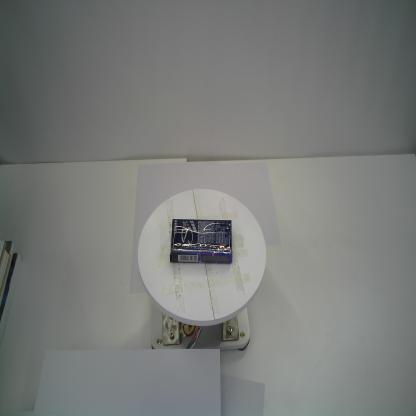Gum: (168, 217, 235, 266)
